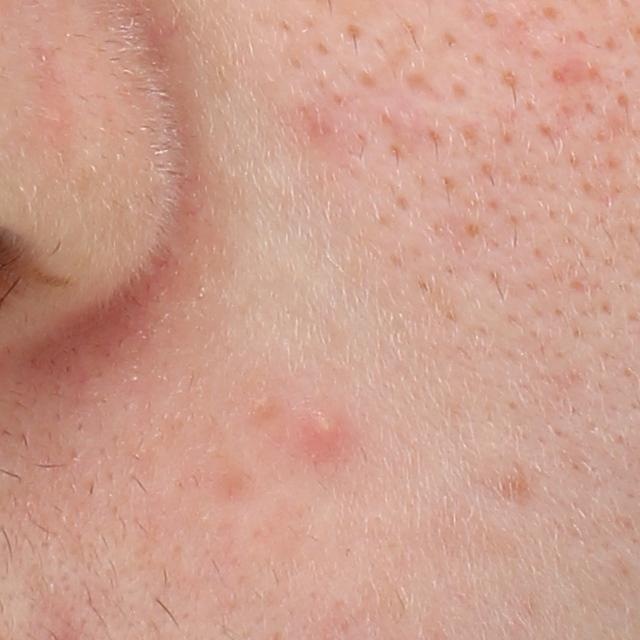atrophic_scar: (394, 69, 447, 111), (554, 54, 609, 88)
